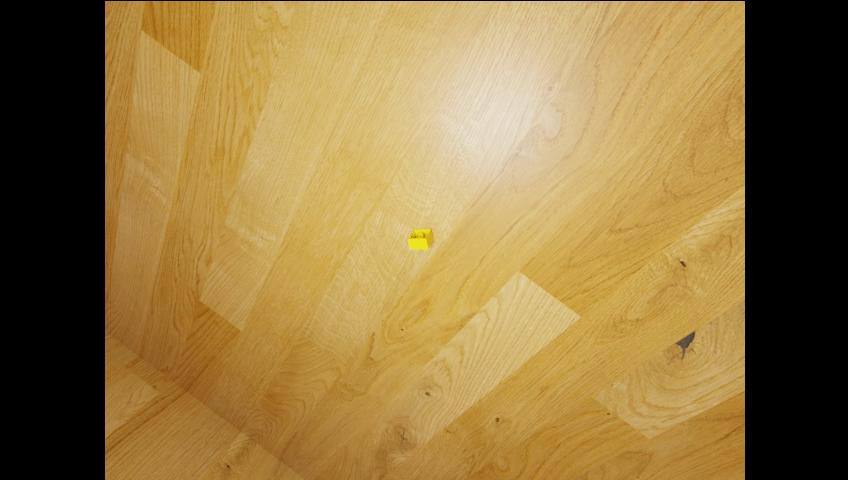2x2_yellow: (408, 229, 433, 250)
